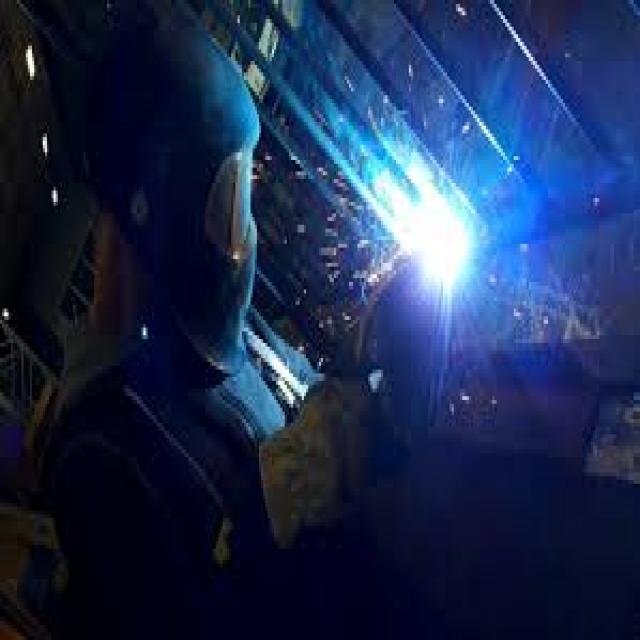welding: (417, 202, 474, 286)
